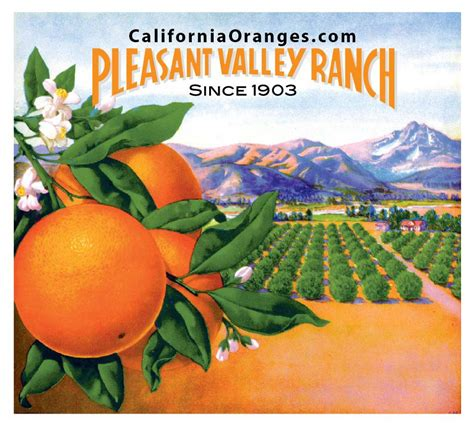orange: (9, 200, 169, 361)
